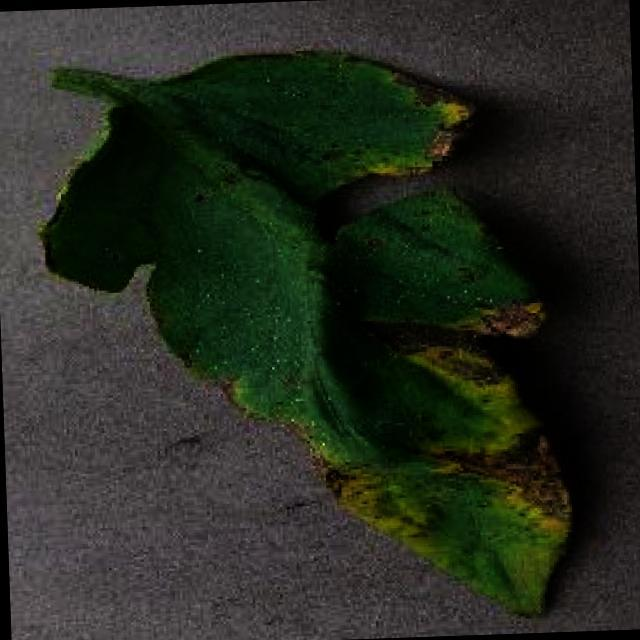Tomato bacterial spot leaf: (30, 38, 582, 640)
